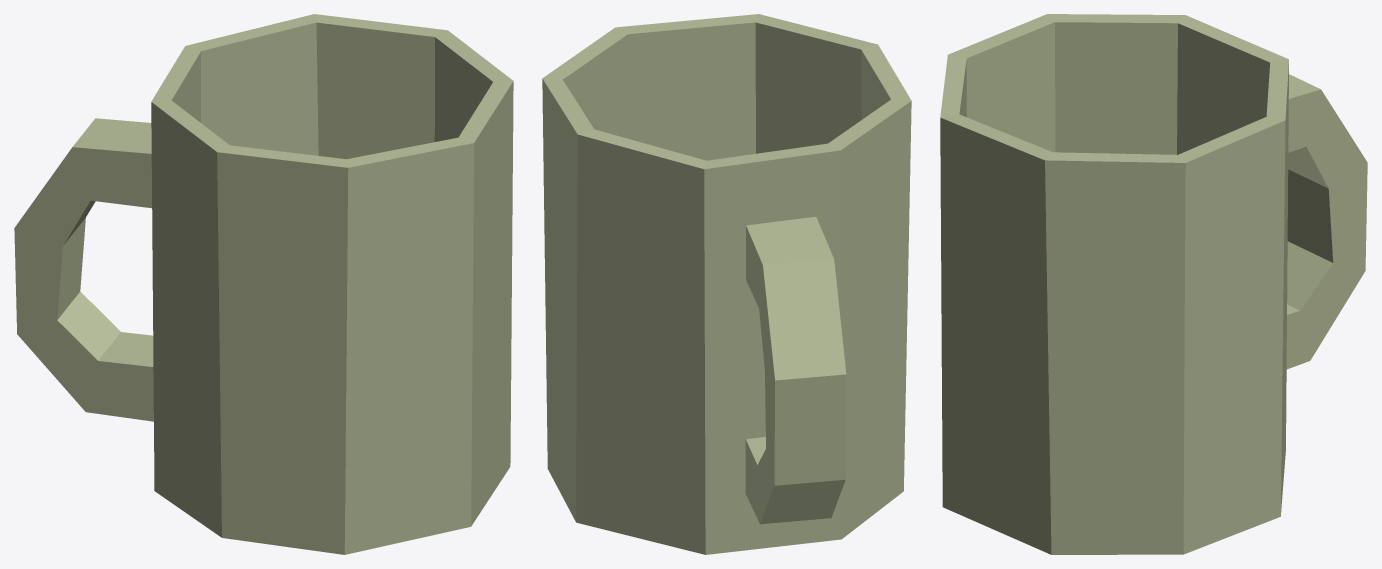
The model's file is Livingroom2_Cup.fbx.
The picture shows the model from 3 angles, left to right: view 1: azimuth 30°, elevation 25°; view 2: azimuth 150°, elevation 25°; view 3: azimuth 270°, elevation 25°; orthographic projection.
Parts seen in each view (by area): view 1: Livingroom2_Cup; view 2: Livingroom2_Cup; view 3: Livingroom2_Cup.
Boxes of the visible parts, left/top/right/bottom form: Livingroom2_Cup: left=14, top=14, right=513, bottom=554; Livingroom2_Cup: left=542, top=14, right=911, bottom=554; Livingroom2_Cup: left=940, top=14, right=1367, bottom=554.
Bounding box in the file's own units: 14.14 × 14.52 × 14.
